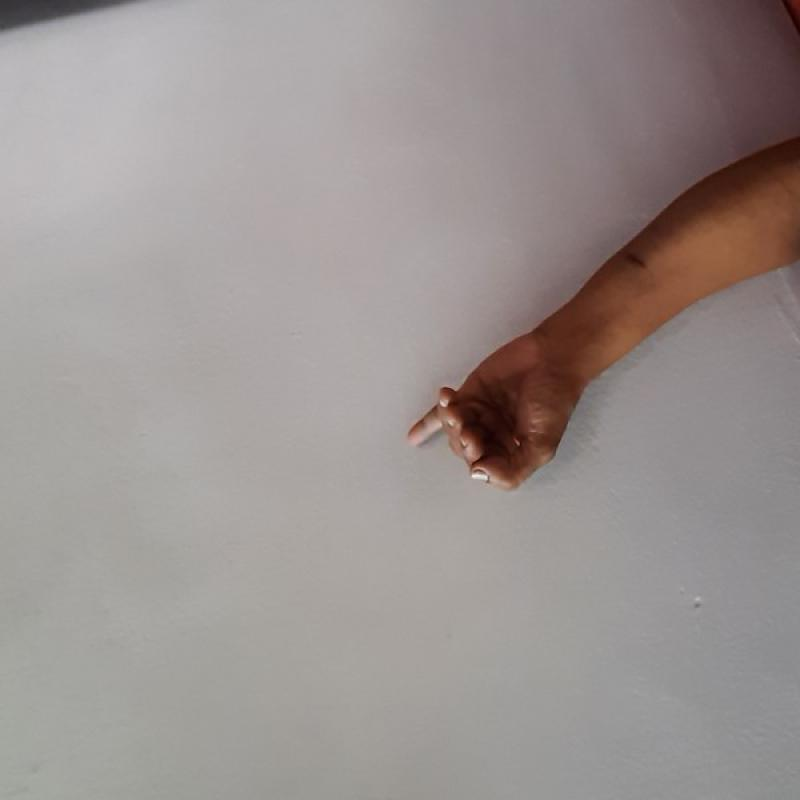Kartharee Mukham: (400, 327, 574, 512)
